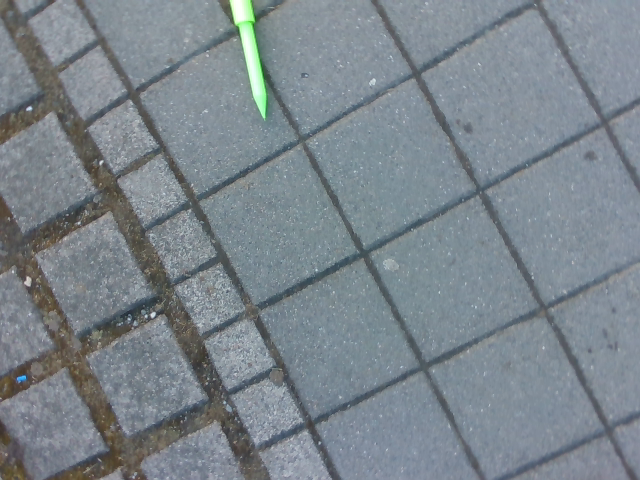Probe: (228, 1, 274, 126)
